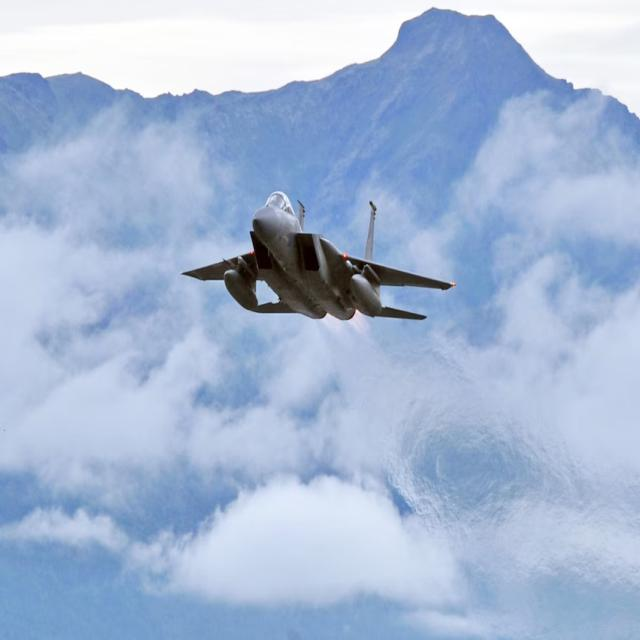F15: (174, 148, 482, 397)
